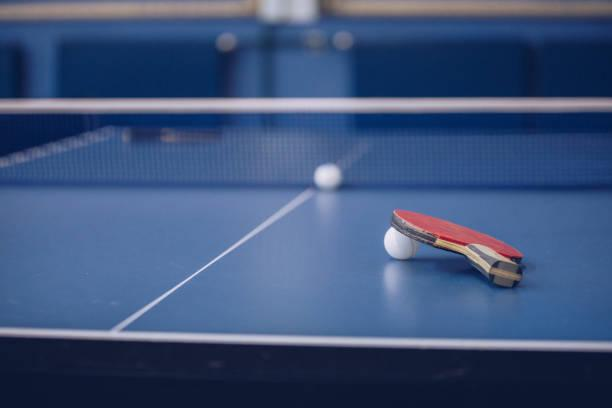ball_pingpong: (382, 225, 418, 261), (313, 160, 347, 191)
